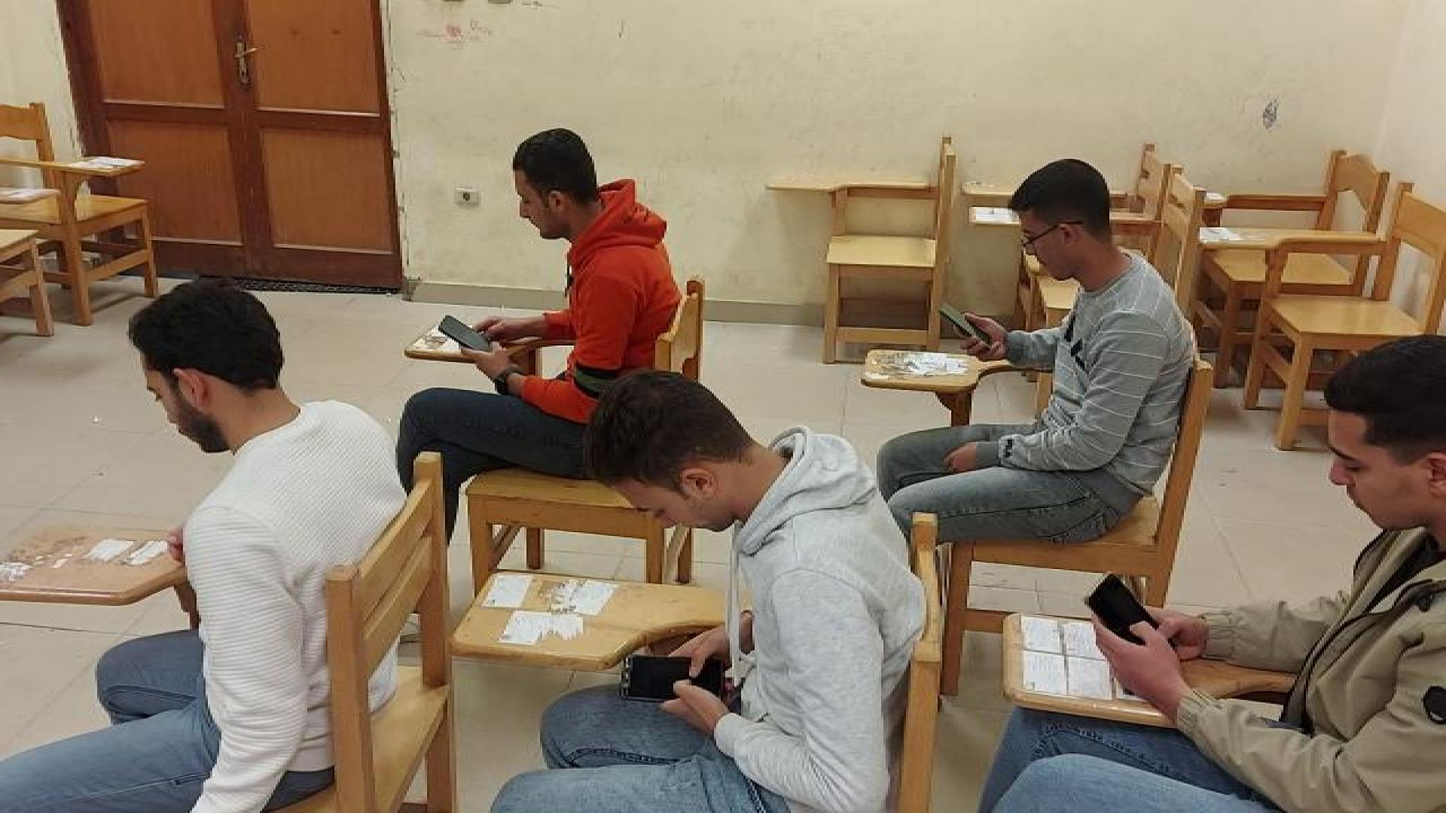phone: (1082, 569, 1179, 656), (619, 655, 730, 707), (934, 295, 995, 352), (438, 310, 493, 353)
